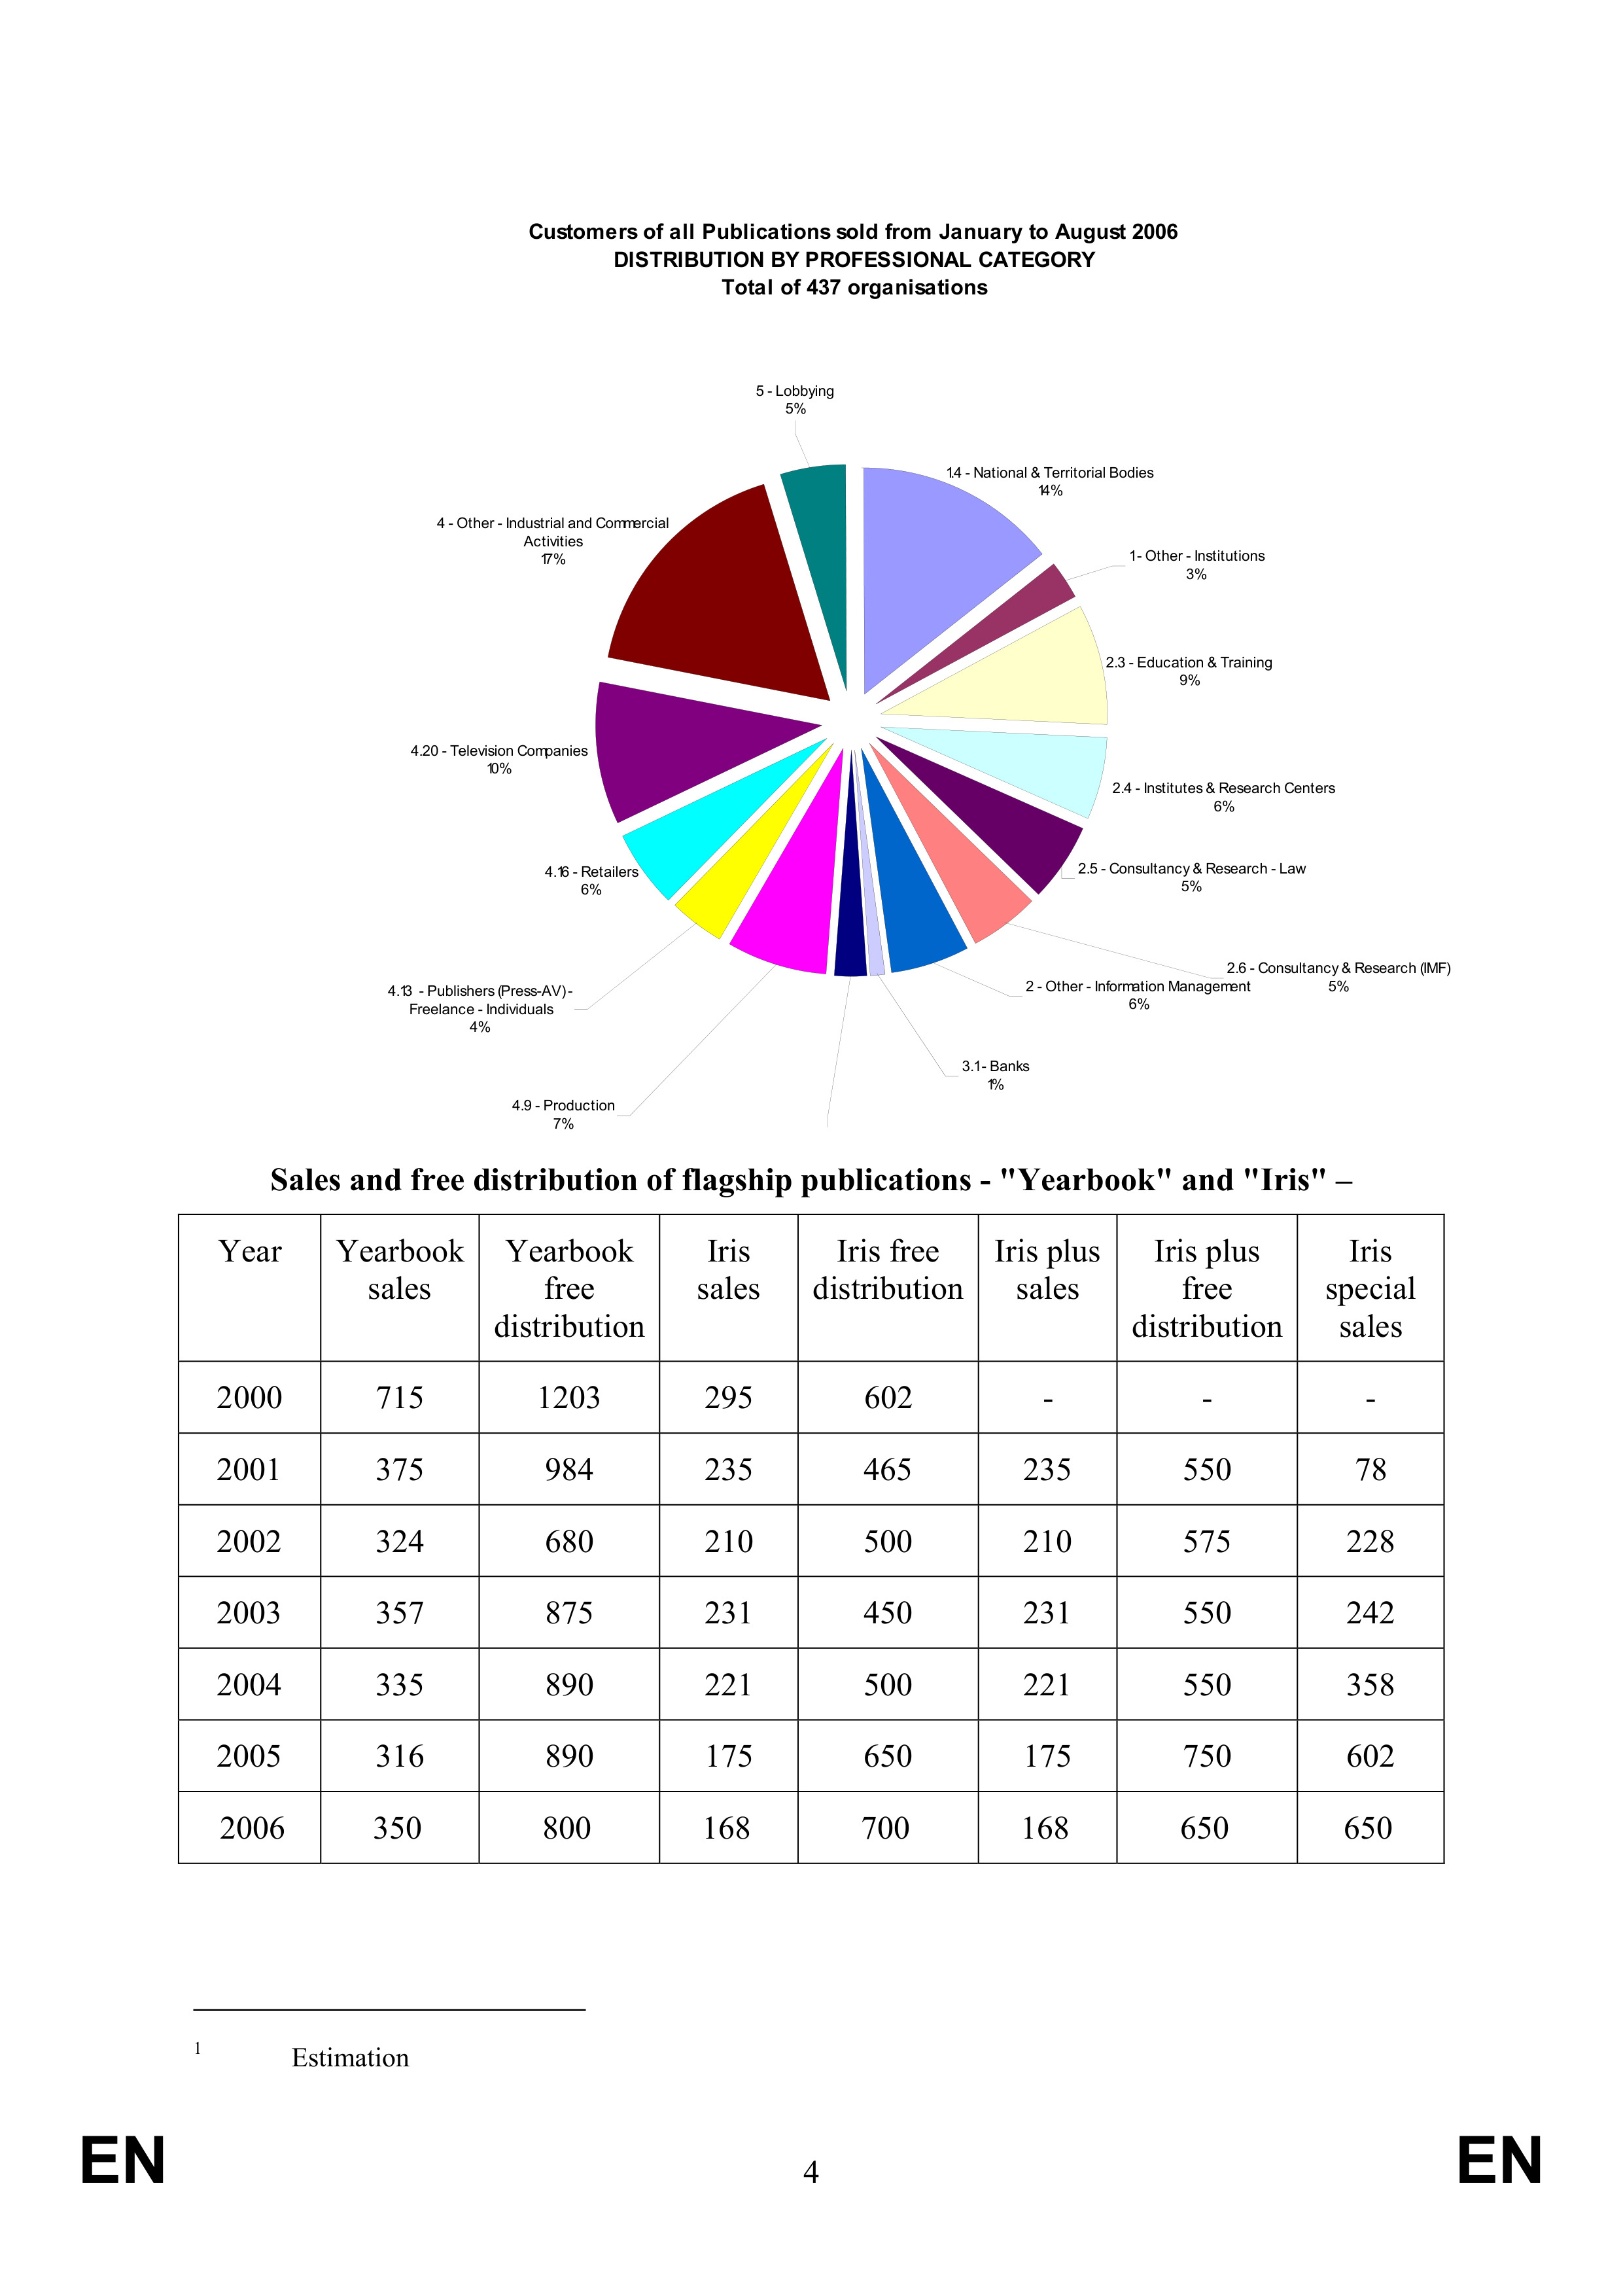table: (216, 1231, 1416, 1846)
